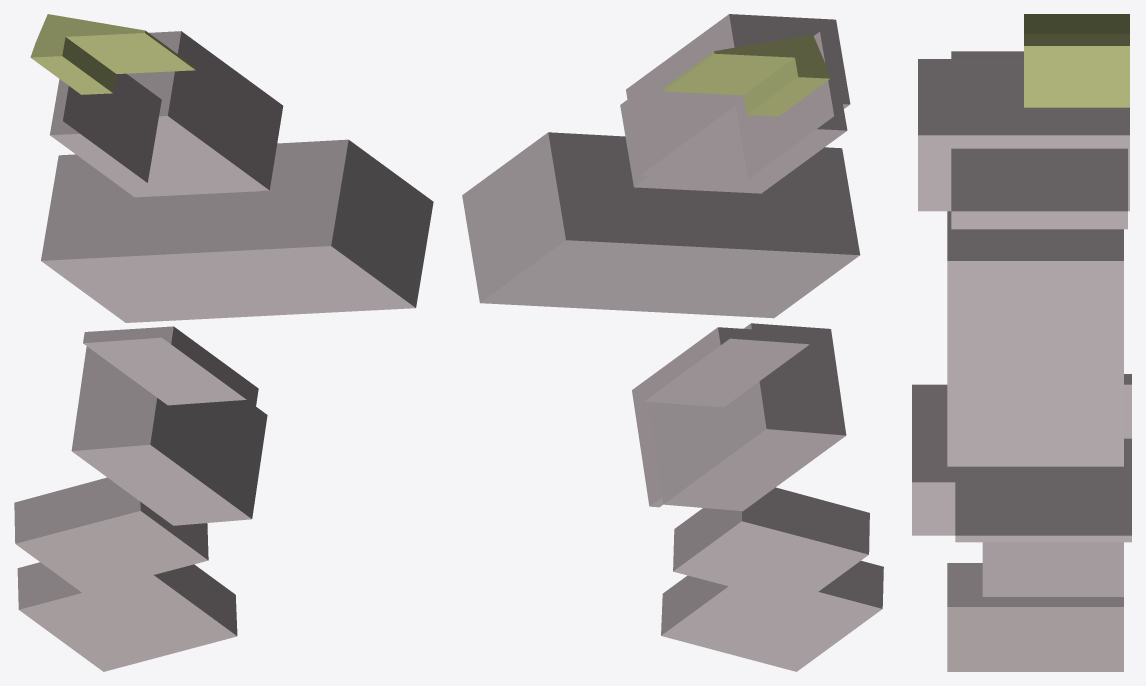
3 views of the same model, side by side, from view 1: azimuth 30°, elevation 25°; view 2: azimuth 150°, elevation 25°; view 3: azimuth 270°, elevation 25° (orthographic). The views are drawn at different scales.
Parts seen in each view (by area): view 1: 0_2_1_0_0_0_0_0_0; view 2: 0_2_1_0_0_0_0_0_0; view 3: 0_2_1_0_0_0_0_0_0.
Part boxes in pixels (box(x1,y1,x2,y2)): 0_2_1_0_0_0_0_0_0: box(14, 14, 433, 671); 0_2_1_0_0_0_0_0_0: box(462, 14, 883, 671); 0_2_1_0_0_0_0_0_0: box(912, 14, 1131, 671).
Bounding box in the file's own units: 34.1 × 57.09 × 18.66.
